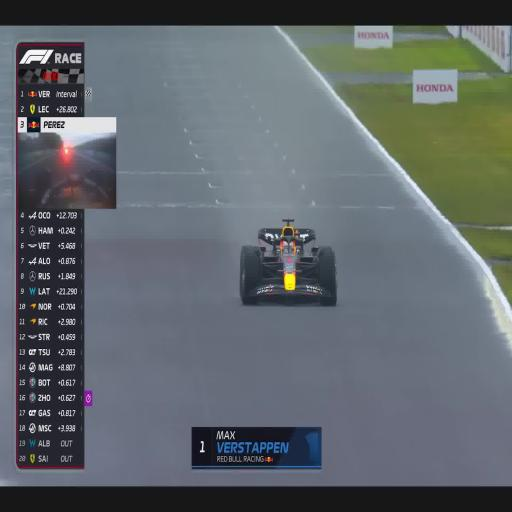f1_car: (240, 219, 337, 305)
